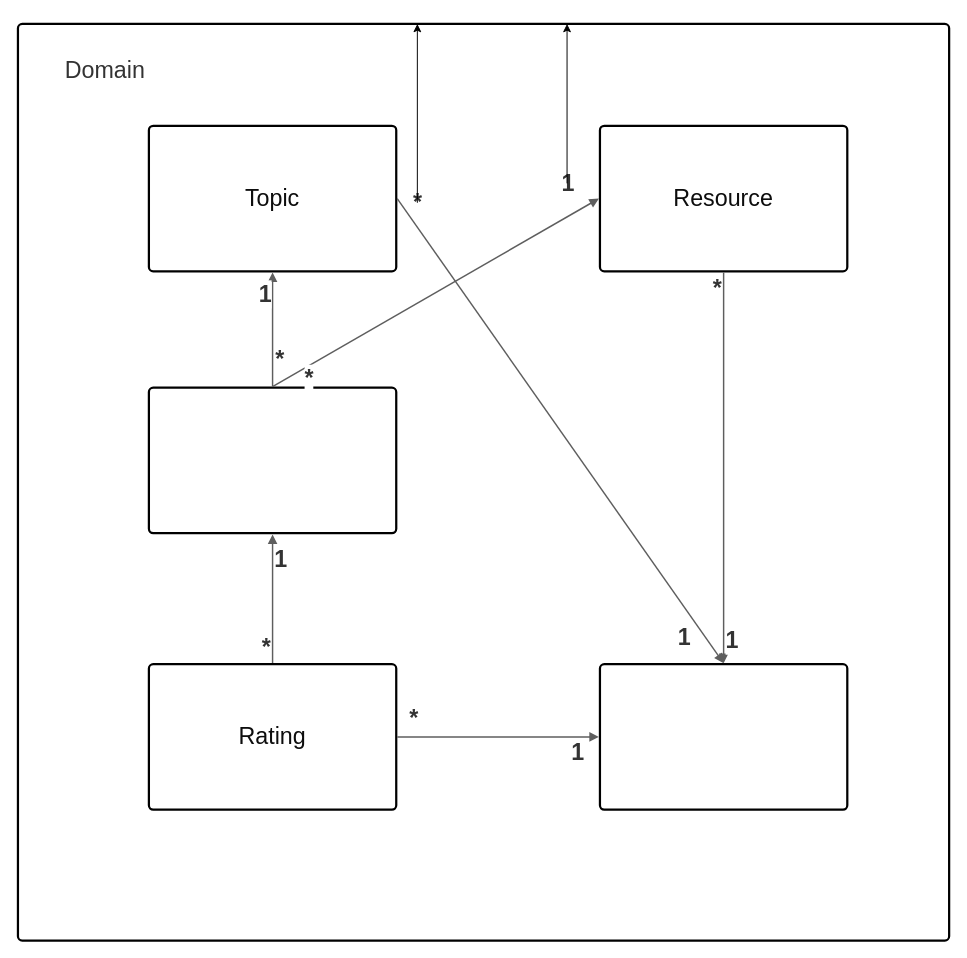
The diagram is 967 pixels wide and 958 high, and some of its shapes have lost their labels. Each missing label, with the centre of its shape:
TopicResource: the point at 272,460
User: the point at 723,736
